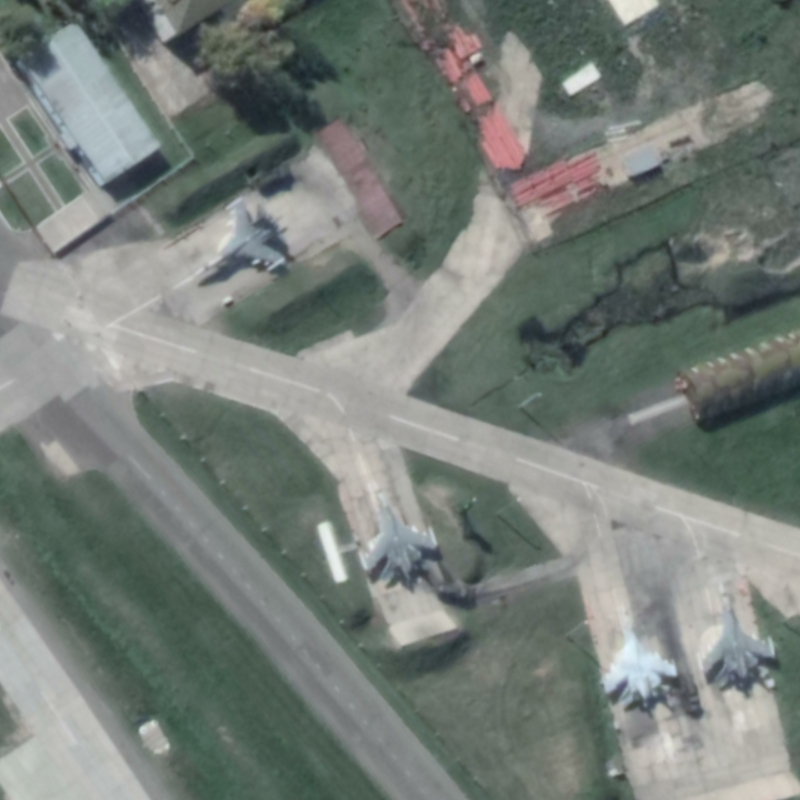A1: (697, 579, 779, 691), (600, 600, 681, 712), (358, 481, 439, 590), (194, 195, 287, 282)
